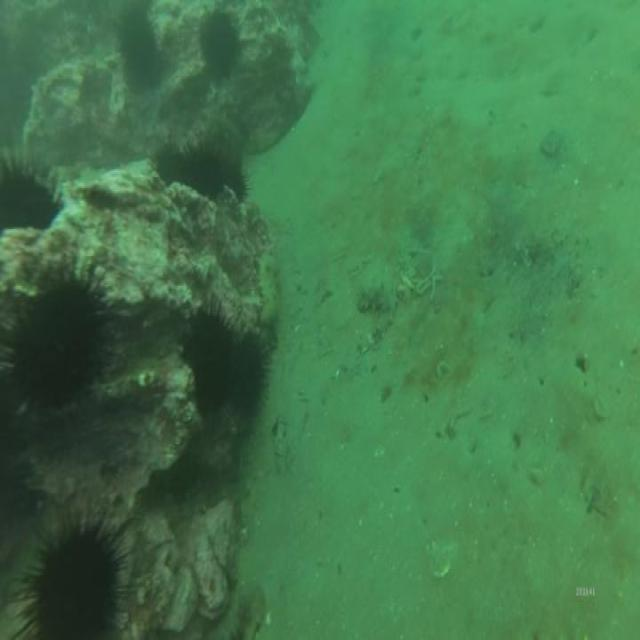echinus: (5, 254, 116, 432), (16, 510, 138, 640), (179, 288, 241, 416), (160, 137, 248, 200), (0, 150, 64, 236), (233, 316, 275, 433), (195, 2, 246, 93), (114, 6, 164, 90)
holothurian: (255, 246, 285, 328), (354, 274, 396, 320)
